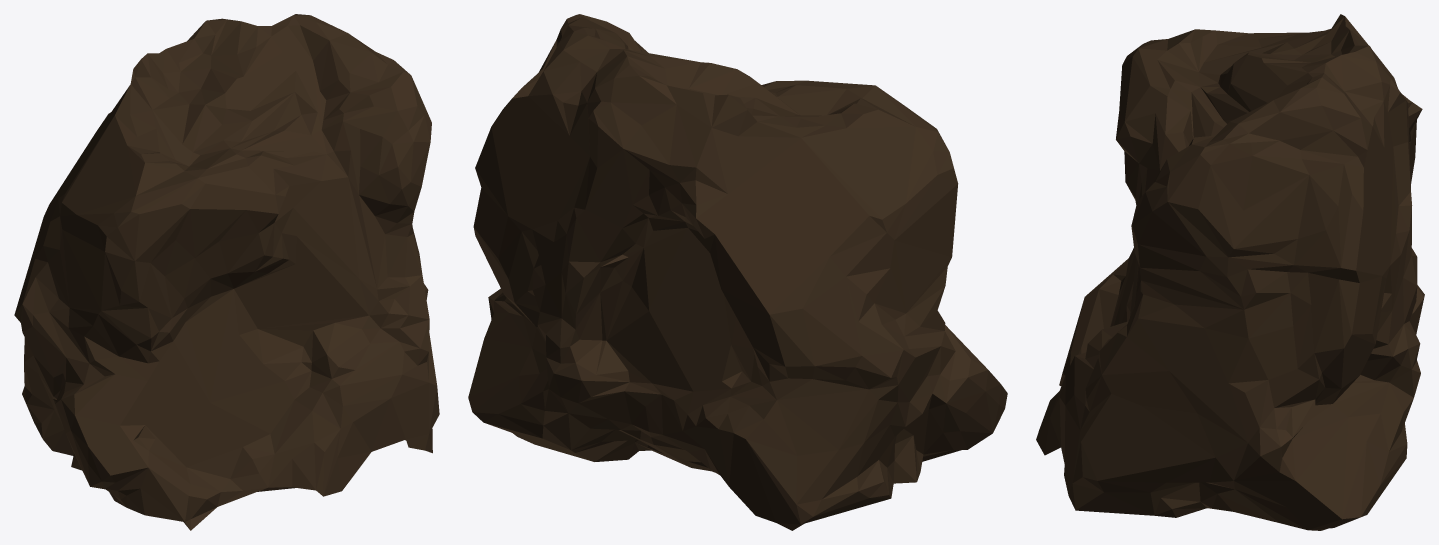
Rendered from SM_cliff_06.FBX.
3 views of the same model, side by side, from view 1: azimuth 30°, elevation 25°; view 2: azimuth 150°, elevation 25°; view 3: azimuth 270°, elevation 25° (orthographic). The views are drawn at different scales.
Visible parts, largest first — view 1: Object023; view 2: Object023; view 3: Object023.
Part boxes in pixels (x1,y1,x2,y2): Object023: (14, 14, 439, 530); Object023: (468, 14, 1007, 530); Object023: (1036, 14, 1424, 530).
Size of the model in its own units: 1351 by 1237 by 1010.
